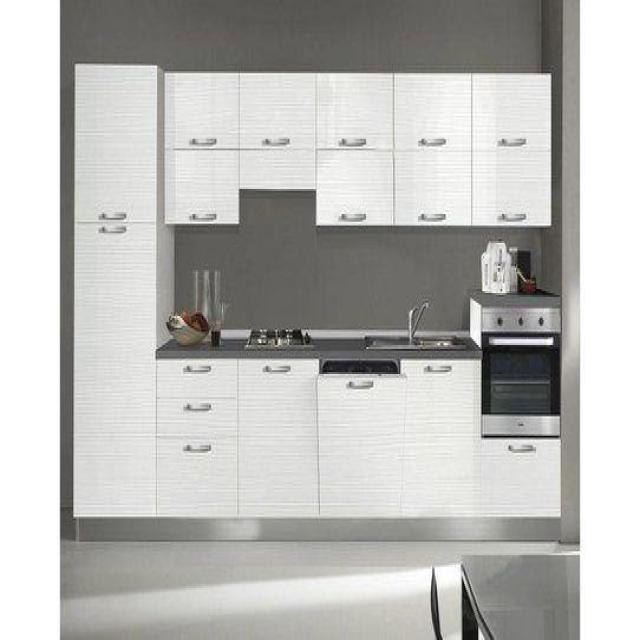dishwasher: (314, 351, 409, 520)
